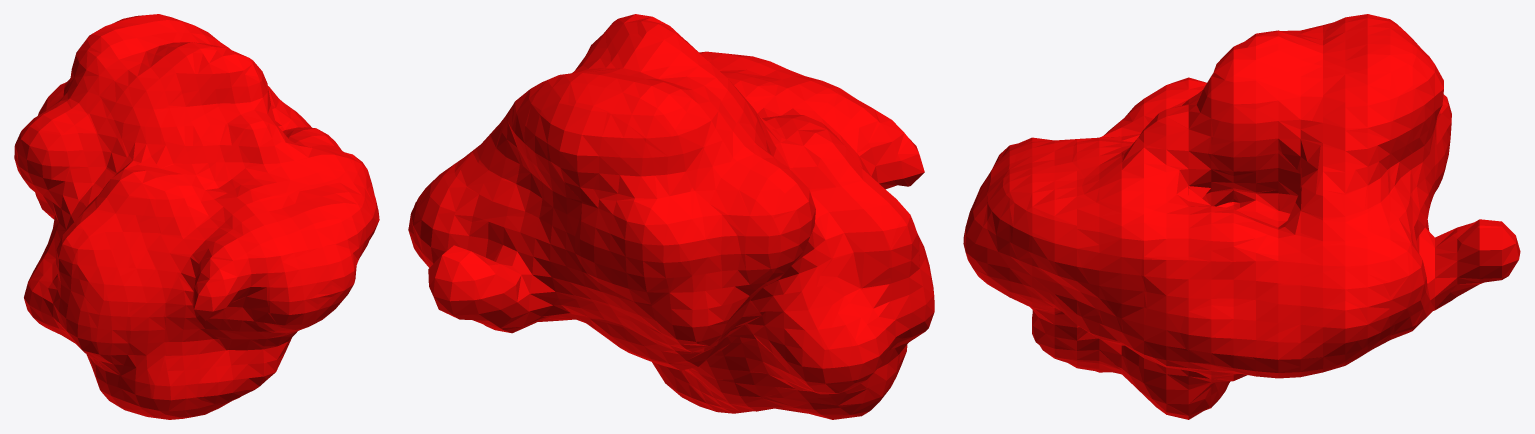
Rendered from nudE_coarse.dae.
3 renders of one model, left to right at view 1: azimuth 30°, elevation 25°; view 2: azimuth 150°, elevation 25°; view 3: azimuth 270°, elevation 25°, orthographic. The views are drawn at different scales.
Visible parts, largest first — view 1: nudE; view 2: nudE; view 3: nudE.
Part boxes in pixels (x1=…): nudE: x1=14, y1=14, x2=379, y2=419; nudE: x1=408, y1=14, x2=934, y2=419; nudE: x1=963, y1=14, x2=1520, y2=419.
Size of the model in its own units: 59.84 by 54.82 by 72.02.
